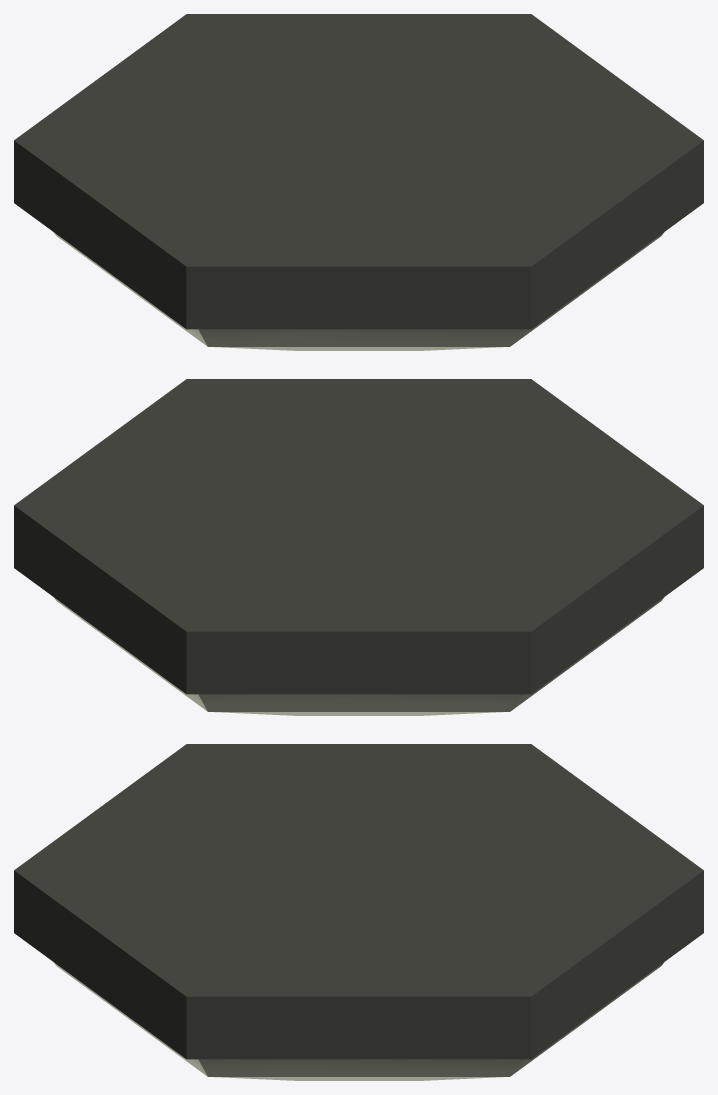
File: roof_light.fbx
3 renders of one model, top to bottom at view 1: azimuth 30°, elevation 25°; view 2: azimuth 150°, elevation 25°; view 3: azimuth 270°, elevation 25°, orthographic.
Parts seen in each view (by area): view 1: Cylinder.007; view 2: Cylinder.007; view 3: Cylinder.007.
Part boxes in pixels (box(x1,y1,x2,y2)): Cylinder.007: box(14, 14, 703, 350); Cylinder.007: box(14, 379, 703, 715); Cylinder.007: box(14, 744, 703, 1080).
Bounding box in the file's own units: 248 × 75.22 × 287.
Materials: 1 (1 with a texture image).
